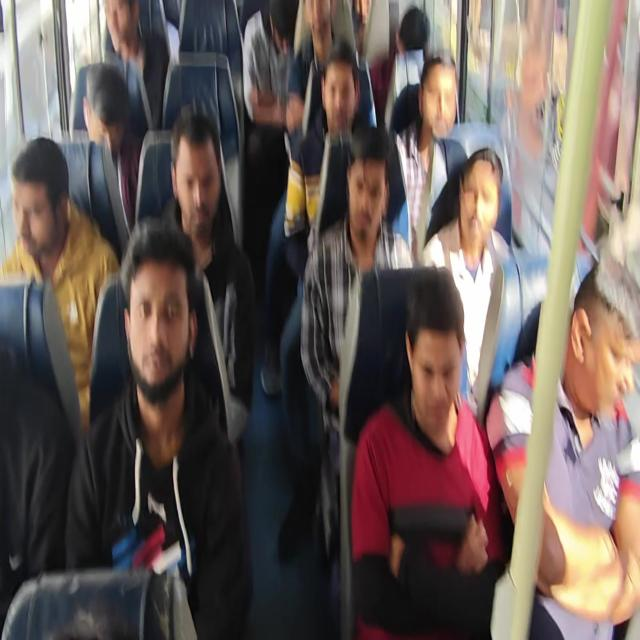person: (1, 1, 638, 638), (64, 217, 251, 638), (299, 123, 416, 634), (350, 265, 507, 638), (528, 252, 639, 639), (0, 136, 121, 433), (162, 109, 255, 448), (422, 146, 515, 420), (386, 54, 468, 262), (301, 40, 362, 236), (82, 62, 140, 235), (102, 0, 165, 132), (242, 0, 298, 128), (384, 5, 430, 134)
